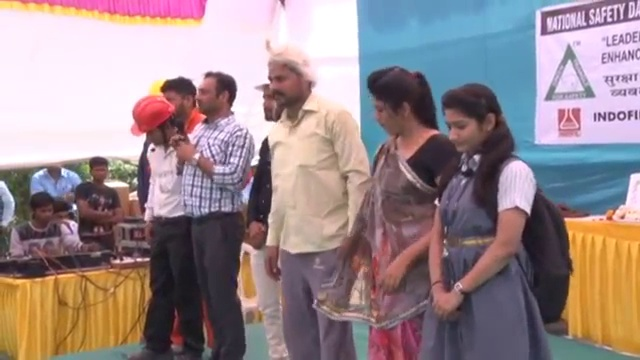helmet: (253, 67, 271, 92)
helmet_off: (368, 59, 438, 144), (439, 83, 509, 165), (259, 50, 317, 112), (192, 70, 237, 126), (161, 77, 198, 120), (28, 194, 56, 226), (89, 159, 108, 187)
helmet_on: (254, 67, 281, 125)
person: (423, 72, 570, 360), (261, 43, 373, 360), (358, 59, 457, 359), (172, 68, 260, 360), (126, 96, 205, 360), (248, 66, 290, 357), (9, 190, 99, 259), (73, 158, 122, 246), (31, 164, 82, 199)
